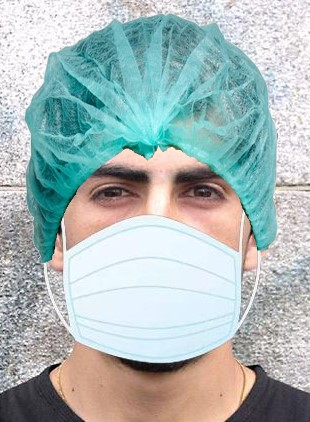with_mask_and_cap: (27, 14, 276, 362)
